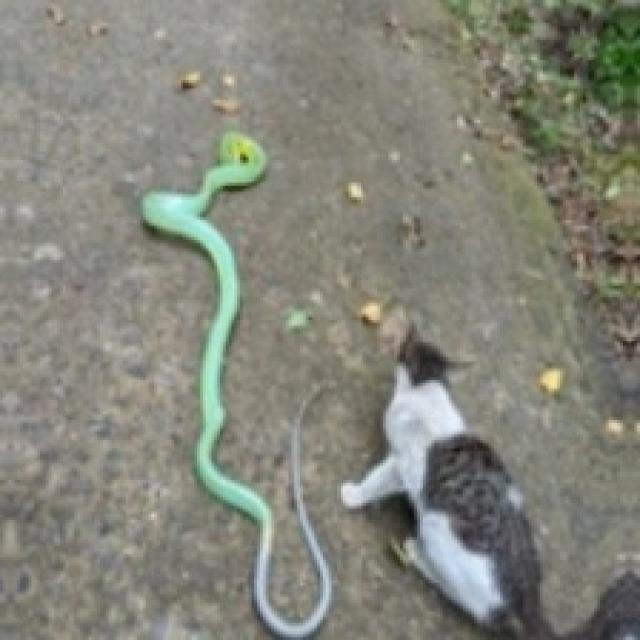red-tailed green ratsnake: (140, 131, 329, 637)
